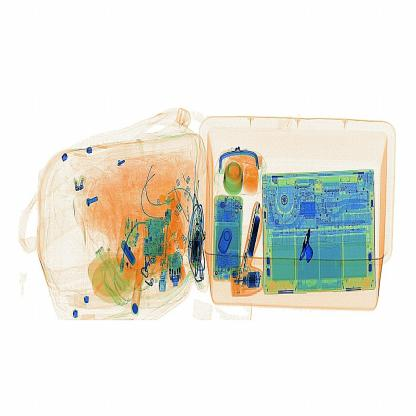wrench: (296, 225, 316, 273)
